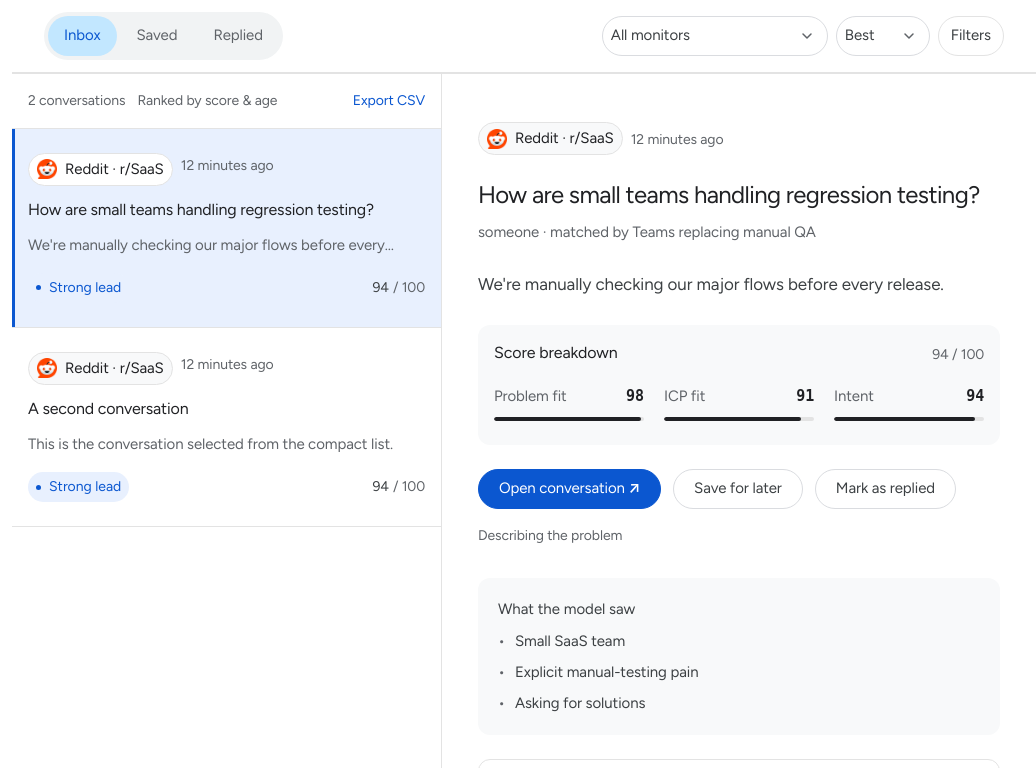
Test case: the inbox › opens a selected match in the reading pane
This screenshot has width=1036, height=768.
Step 1. Click the 6th button → (100, 368), box [12,328,441,527]
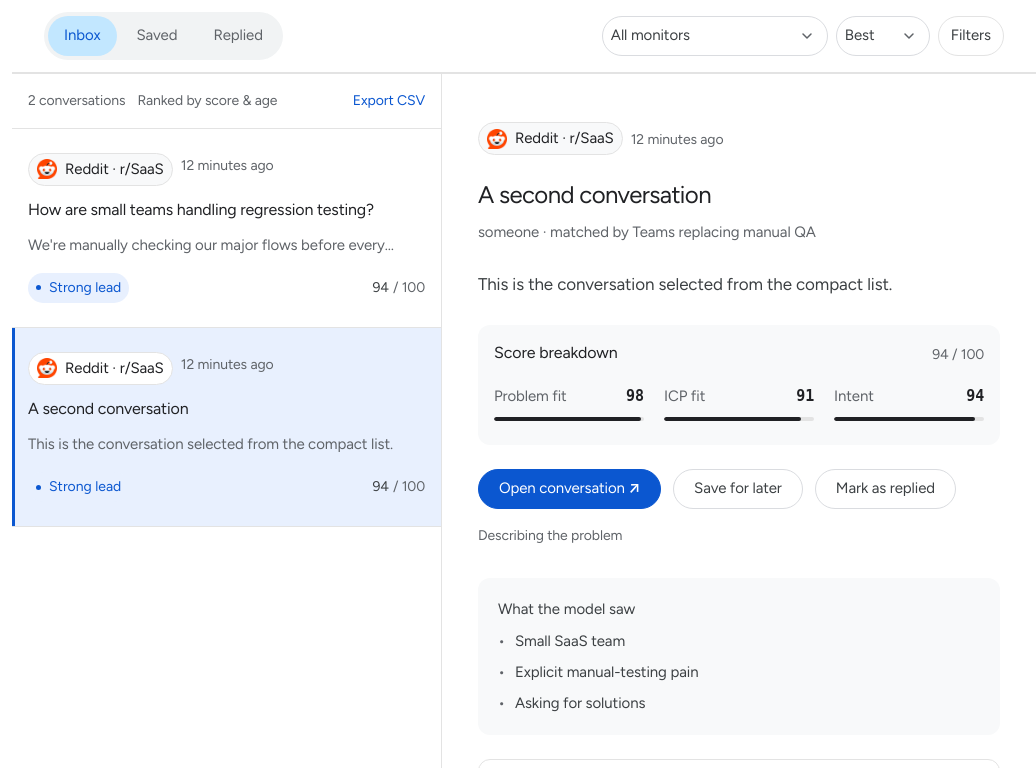
Check: the heading with class "detail-title" reads "A second conversation", box [478,180,711,209]
